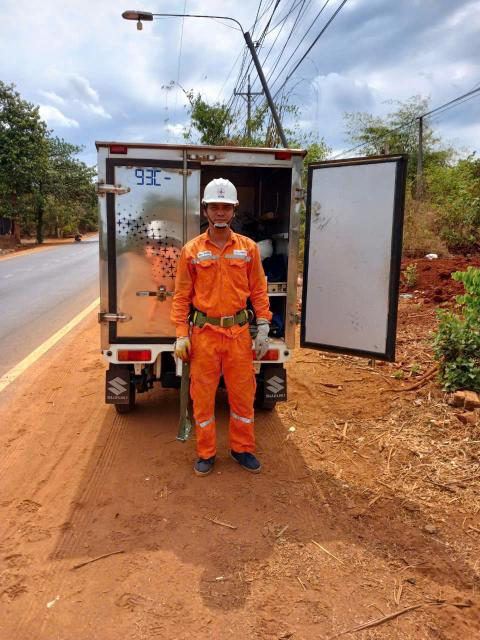gloves: (253, 321, 274, 366), (169, 337, 200, 363)
harness: (181, 306, 258, 337)
helmet: (197, 178, 243, 212)
shoes: (189, 441, 227, 484), (233, 445, 267, 479)
